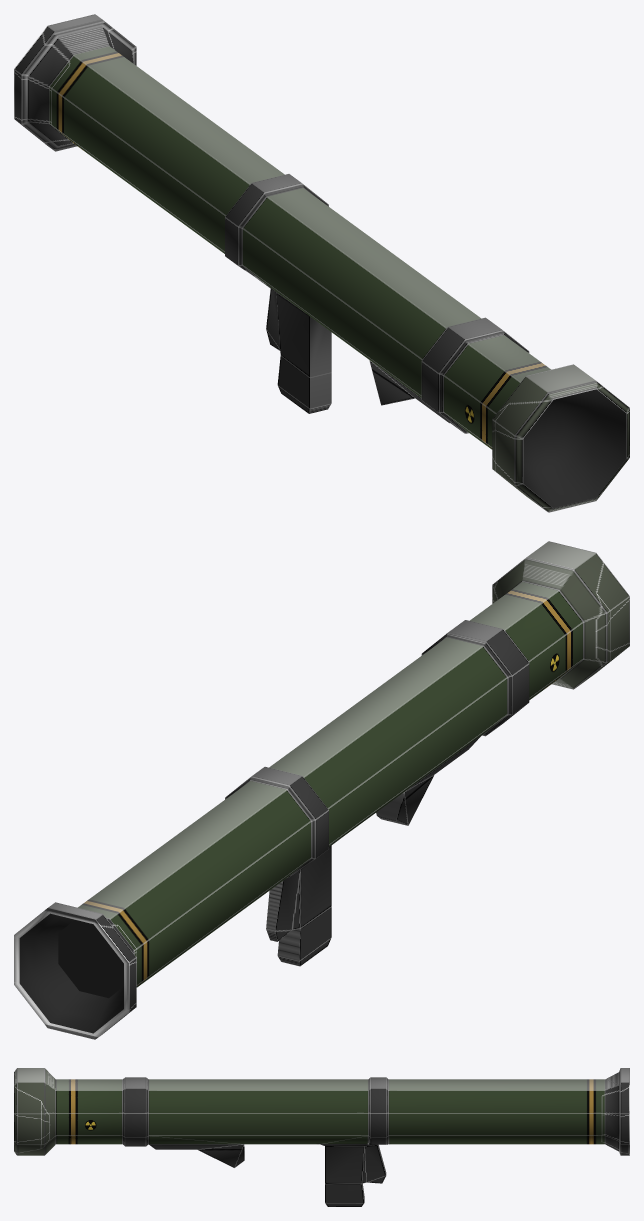
File: Bazooka.fbx
The picture shows the model from 3 angles, top to bottom: view 1: azimuth 30°, elevation 25°; view 2: azimuth 150°, elevation 25°; view 3: azimuth 270°, elevation 25°; orthographic projection. The views are drawn at different scales.
Parts seen in each view (by area): view 1: Bazooka; view 2: Bazooka; view 3: Bazooka.
Part boxes in pixels (left/top/right/bottom): Bazooka: left=14, top=14, right=629, bottom=512; Bazooka: left=14, top=541, right=629, bottom=1039; Bazooka: left=14, top=1068, right=629, bottom=1206.
Bounding box in the file's own units: 3.59 × 6.29 × 27.22.
1 material, 1 textured.
